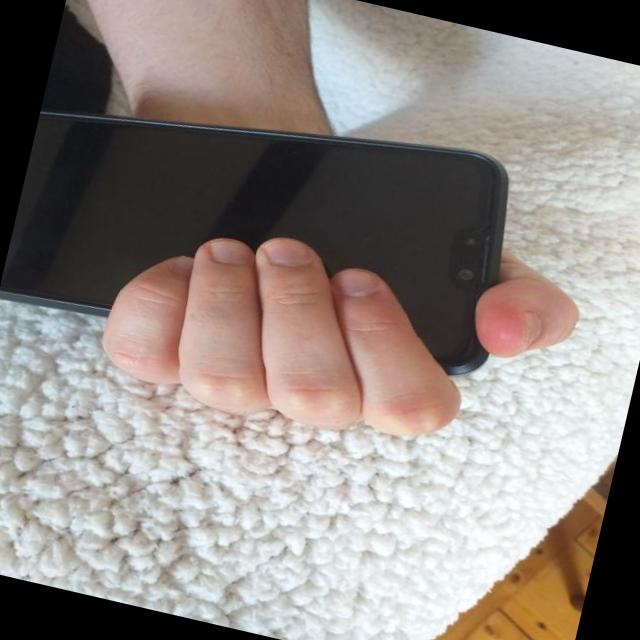Nail: (262, 241, 312, 266), (332, 270, 378, 297), (209, 240, 250, 265), (524, 310, 542, 353), (173, 257, 192, 277)
